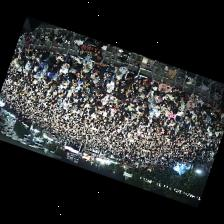person: (124, 61, 141, 82), (58, 55, 71, 76), (37, 54, 50, 70), (64, 66, 75, 84), (138, 76, 152, 90), (146, 98, 158, 114), (93, 61, 106, 75), (158, 82, 171, 95), (106, 75, 115, 92), (44, 68, 56, 80), (114, 65, 126, 77), (129, 80, 139, 94), (80, 68, 91, 80), (171, 87, 181, 100), (72, 56, 82, 69), (55, 50, 64, 64), (151, 105, 159, 120), (82, 59, 92, 71), (120, 80, 129, 93), (39, 49, 49, 60), (92, 72, 103, 82), (163, 99, 174, 109), (164, 91, 173, 103), (177, 99, 184, 114), (186, 99, 194, 112), (71, 76, 81, 86), (155, 90, 165, 100), (91, 85, 100, 96), (114, 74, 123, 85), (202, 102, 211, 113), (107, 63, 114, 77), (195, 96, 202, 110), (146, 89, 154, 101), (168, 110, 175, 123), (94, 77, 103, 87), (118, 92, 126, 103), (103, 68, 109, 82), (161, 104, 168, 115), (101, 93, 108, 104), (151, 79, 158, 89), (210, 104, 217, 114), (40, 64, 47, 74), (137, 86, 143, 97), (96, 40, 105, 47), (25, 48, 32, 57), (20, 47, 27, 55), (173, 100, 180, 106)
